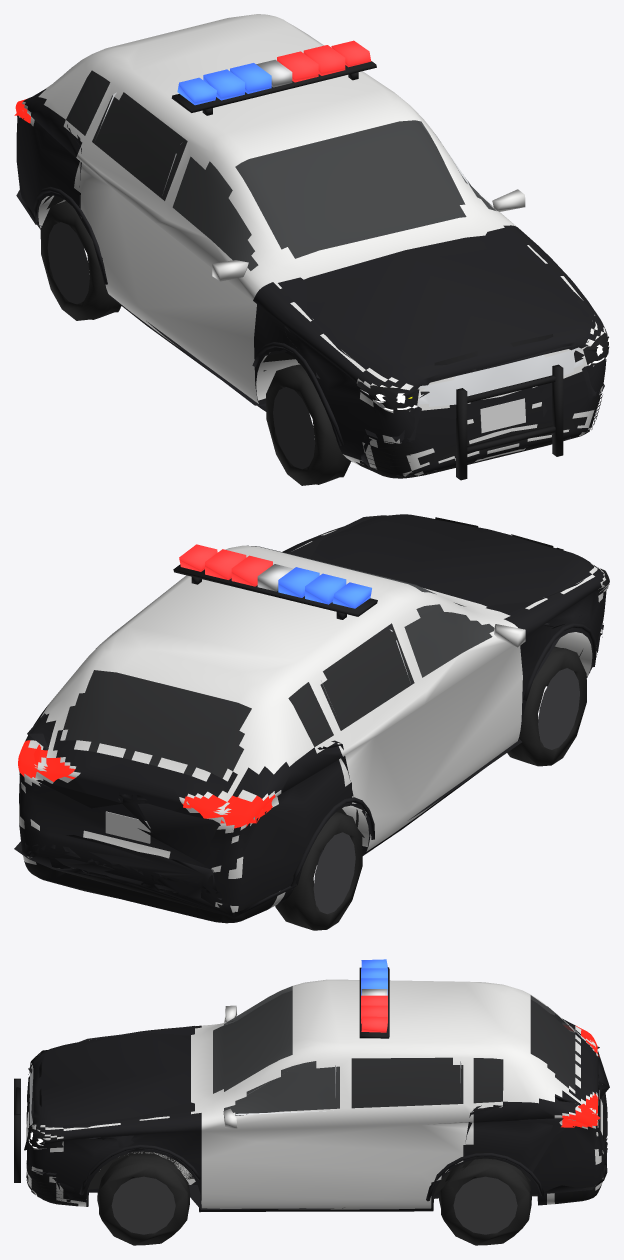
Rendered from patrolSuv-lod2.glb.
3 renders of one model, top to bottom at view 1: azimuth 30°, elevation 25°; view 2: azimuth 150°, elevation 25°; view 3: azimuth 270°, elevation 25°, orthographic. The views are drawn at different scales.
Parts seen in each view (by area): view 1: Body, Body_Lining, Body_Trim, Wheel_FR_Tyre, Wheel_RR_Tyre, Wheel_RR_Face, Wheel_FR_Face, EmergencyBarBase, PlateFront, PushBarUpright_R, PushBarUpright_L, EmergencyBarBlue1 (+10 smaller); view 2: Body, Body_Trim, Body_Lining, Wheel_RR_Tyre, Wheel_FR_Tyre, Wheel_RR_Face, Wheel_FR_Face, EmergencyBarBase, PlateRear, EmergencyBarBlue1, EmergencyBarRed0, EmergencyBarRed1 (+6 smaller); view 3: Body, Body_Lining, Body_Trim, Wheel_FL_Tyre, Wheel_RL_Tyre, Wheel_RL_Face, Wheel_FL_Face, ArchMouldR_L, ArchMouldF_L, Arch_F_L_Liner, EmergencyBarBase, PushBarUpright_L (+1 smaller).
Part boxes in pixels (box(x1,y1,x2,y2)): Body: box(15, 14, 607, 478); Body_Lining: box(70, 71, 465, 270); Body_Trim: box(14, 87, 609, 476); Wheel_FR_Tyre: box(266, 364, 350, 485); Wheel_RR_Tyre: box(40, 201, 121, 320); Wheel_RR_Face: box(47, 222, 89, 304); Wheel_FR_Face: box(273, 387, 315, 469); EmergencyBarBase: box(171, 61, 376, 112); PlateFront: box(480, 398, 525, 433); PushBarUpright_R: box(456, 388, 467, 480); PushBarUpright_L: box(552, 364, 563, 456); EmergencyBarBlue1: box(203, 69, 244, 100); Body: box(18, 514, 606, 923); Body_Trim: box(14, 515, 609, 917); Body_Lining: box(64, 604, 493, 775); Wheel_RR_Tyre: box(275, 812, 362, 930); Wheel_FR_Tyre: box(507, 646, 586, 766); Wheel_RR_Face: box(313, 832, 355, 914); Wheel_FR_Face: box(538, 668, 579, 749); EmergencyBarBase: box(173, 564, 377, 616); PlateRear: box(105, 811, 150, 843); EmergencyBarBlue1: box(305, 573, 346, 604); EmergencyBarRed0: box(231, 555, 272, 586); EmergencyBarRed1: box(205, 549, 246, 579); Body: box(26, 979, 605, 1212); Body_Lining: box(213, 991, 578, 1115); Body_Trim: box(24, 1026, 609, 1209); Wheel_FL_Tyre: box(97, 1153, 190, 1245); Wheel_RL_Tyre: box(439, 1158, 531, 1245); Wheel_RL_Face: box(453, 1176, 517, 1234); Wheel_FL_Face: box(111, 1176, 175, 1234); ArchMouldR_L: box(426, 1153, 544, 1201); ArchMouldF_L: box(79, 1145, 201, 1195); Arch_F_L_Liner: box(88, 1151, 193, 1189); EmergencyBarBase: box(359, 967, 389, 1038); PushBarUpright_L: box(14, 1114, 20, 1182).
Bounding box in the file's own units: 2.1 × 1.79 × 4.67.
